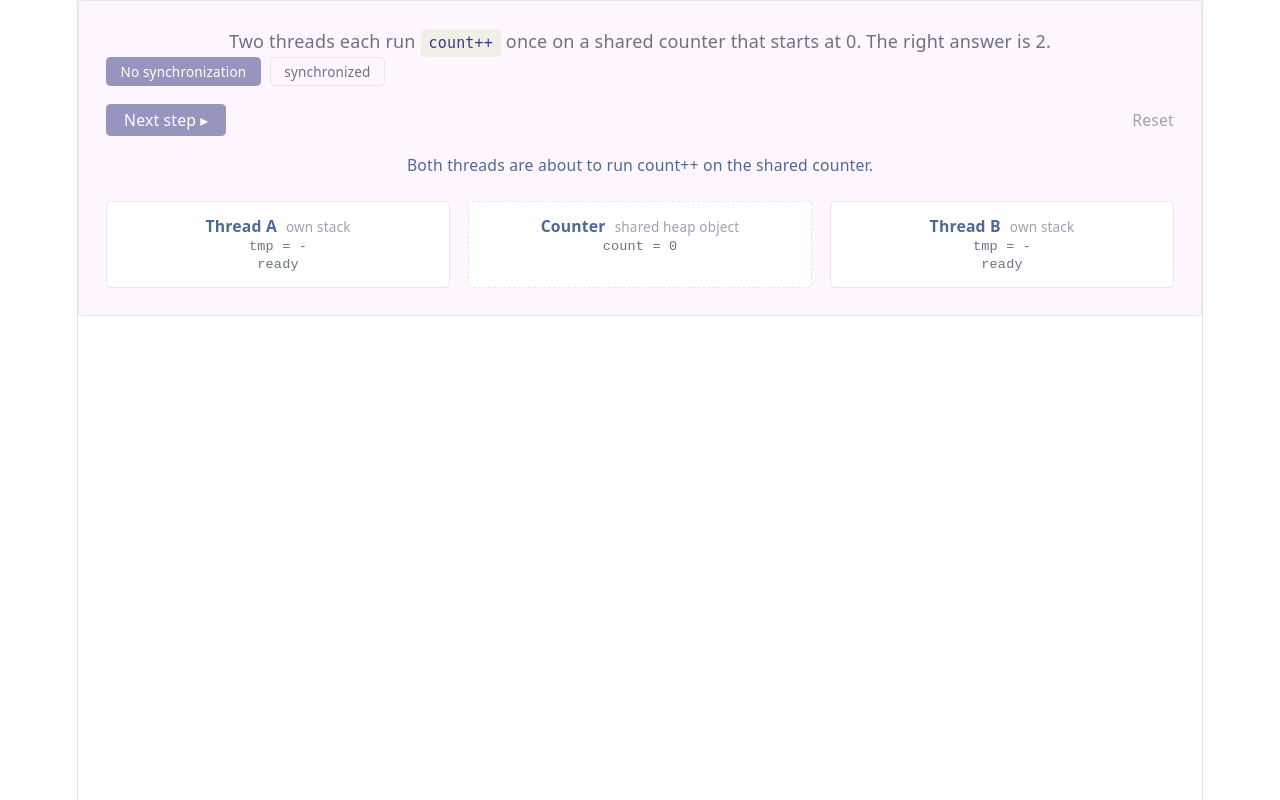
RaceConditionDemo › loses an update without synchronization
Click the button "Next step ▸".
click(166, 120)  # box top-left (106, 104), bottom-right (226, 136)
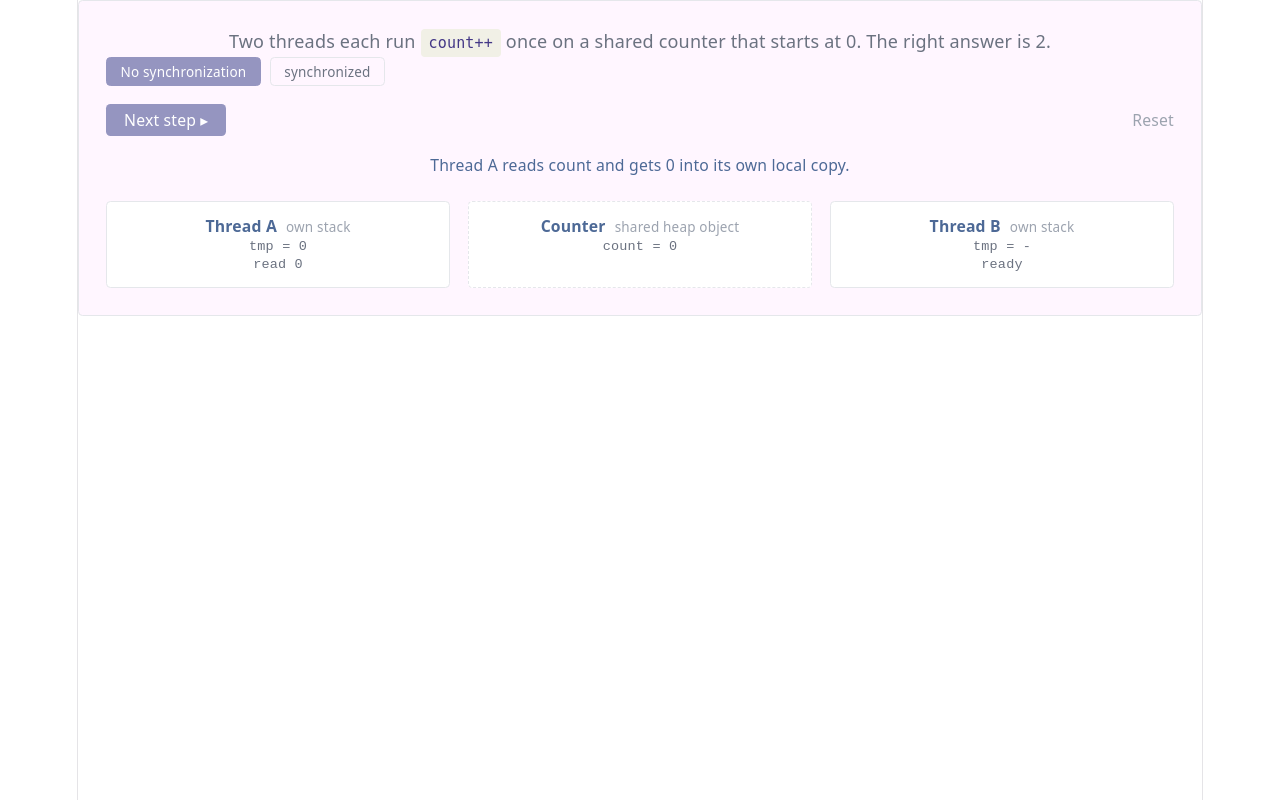
Click the button "Next step ▸".
click(166, 120)  # box top-left (106, 104), bottom-right (226, 136)
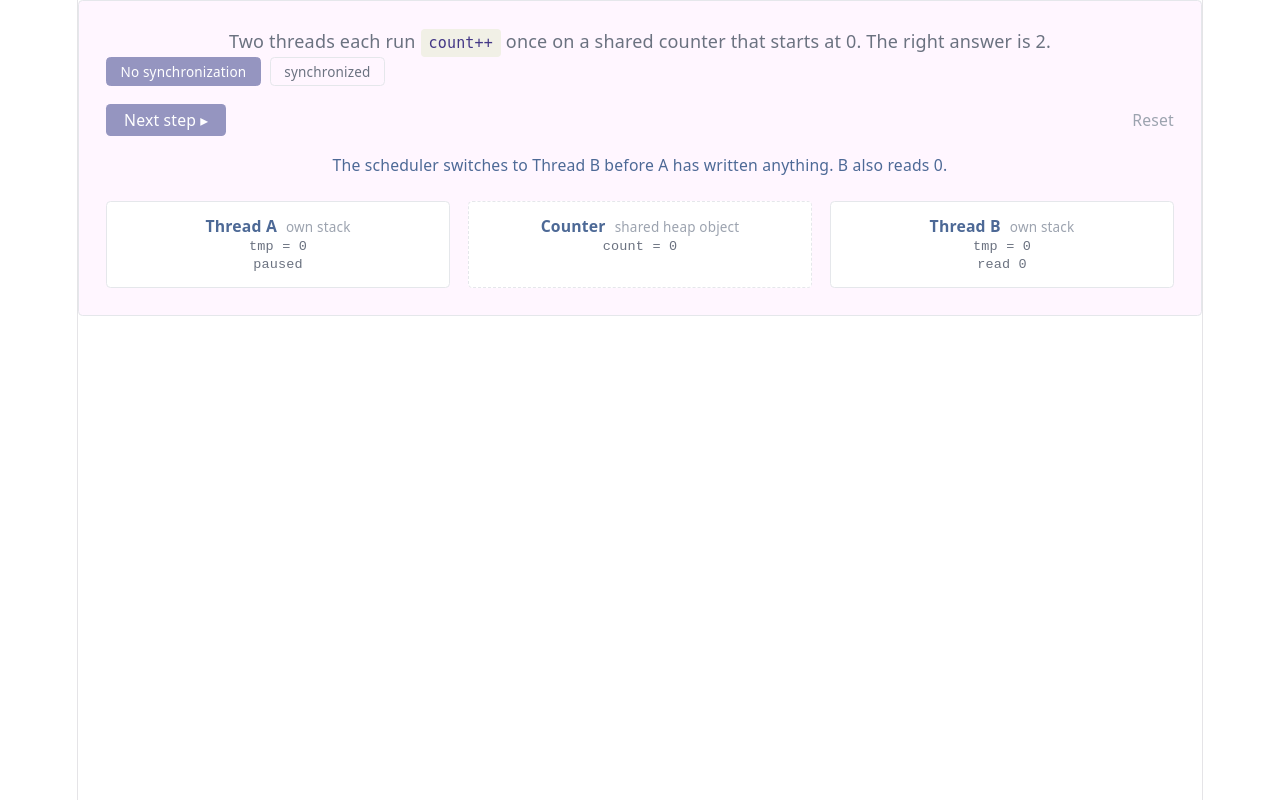
Click the button "Next step ▸".
click(166, 120)  # box top-left (106, 104), bottom-right (226, 136)
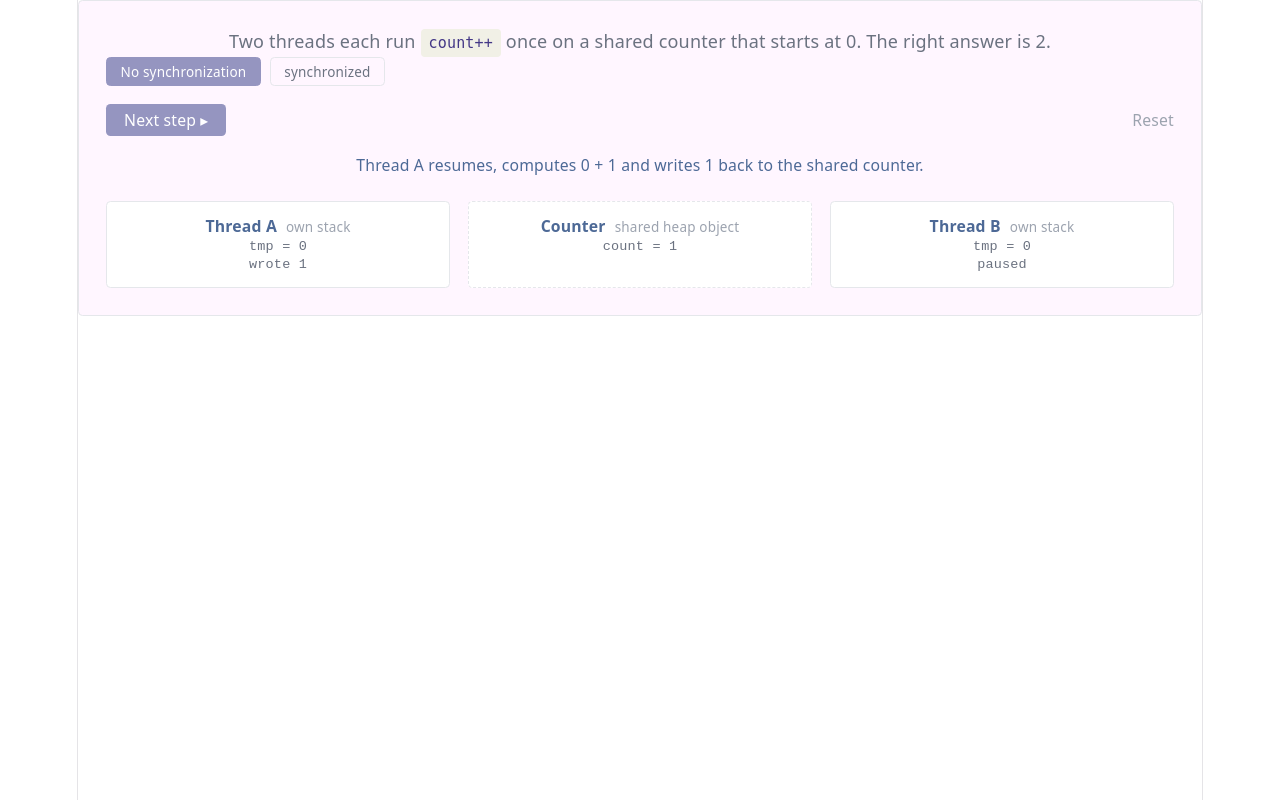
Click the button "Next step ▸".
click(166, 120)  # box top-left (106, 104), bottom-right (226, 136)
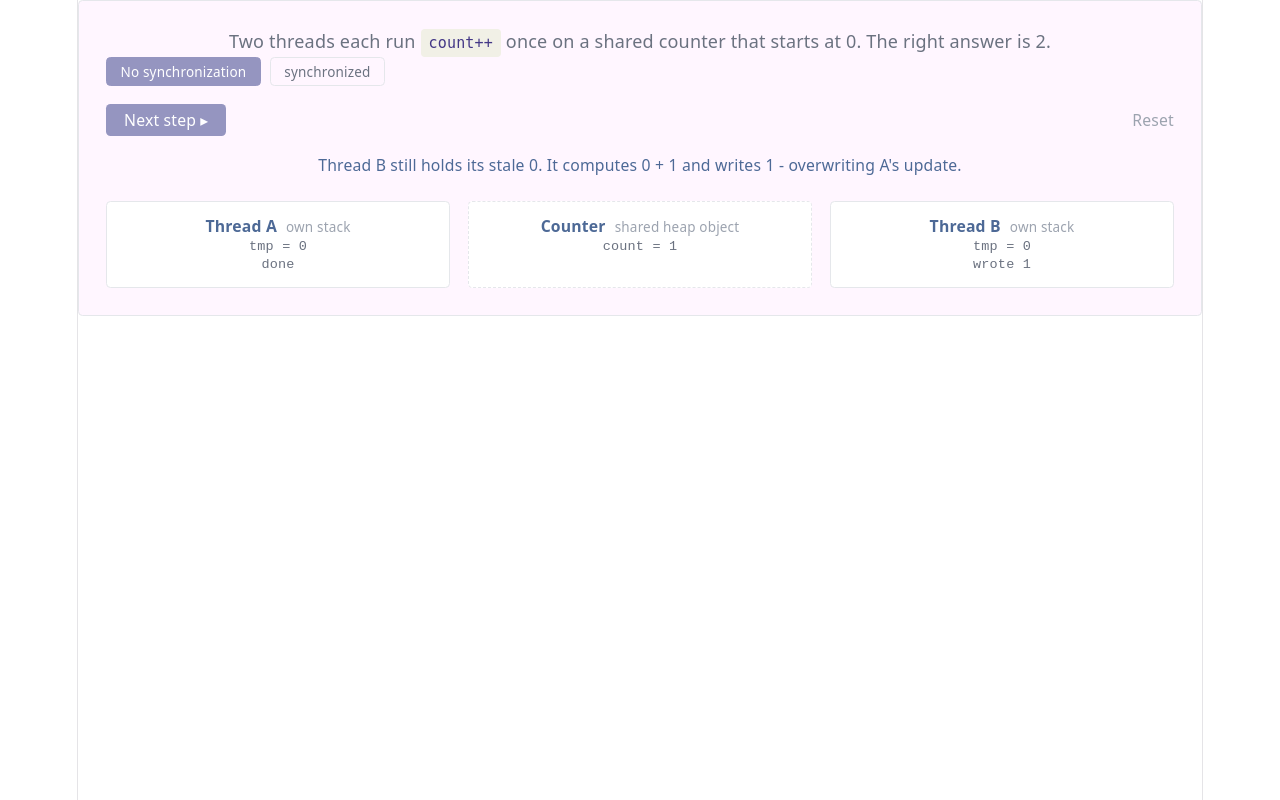
Click the button "Next step ▸".
click(166, 120)  # box top-left (106, 104), bottom-right (226, 136)
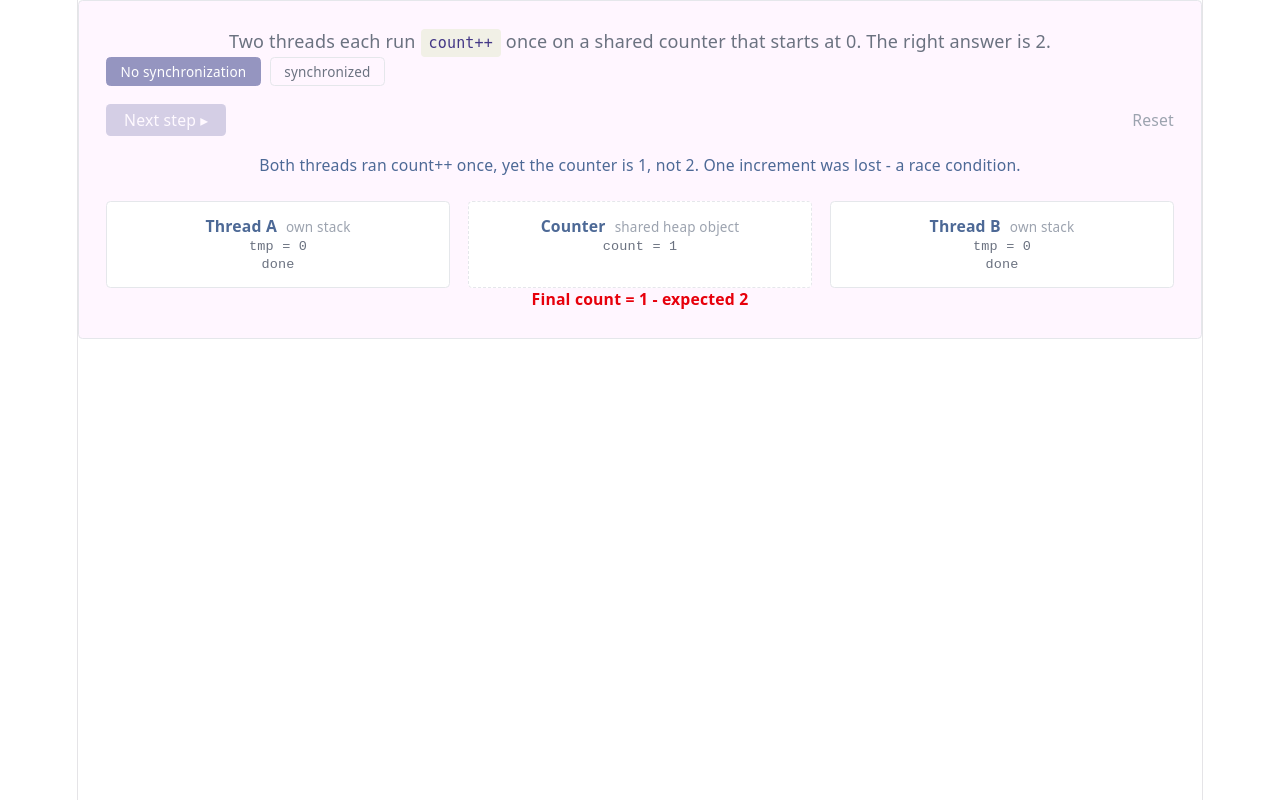
Check: the text "Final count = 1 - expected 2" is shown, box top-left (532, 288), bottom-right (748, 310)
